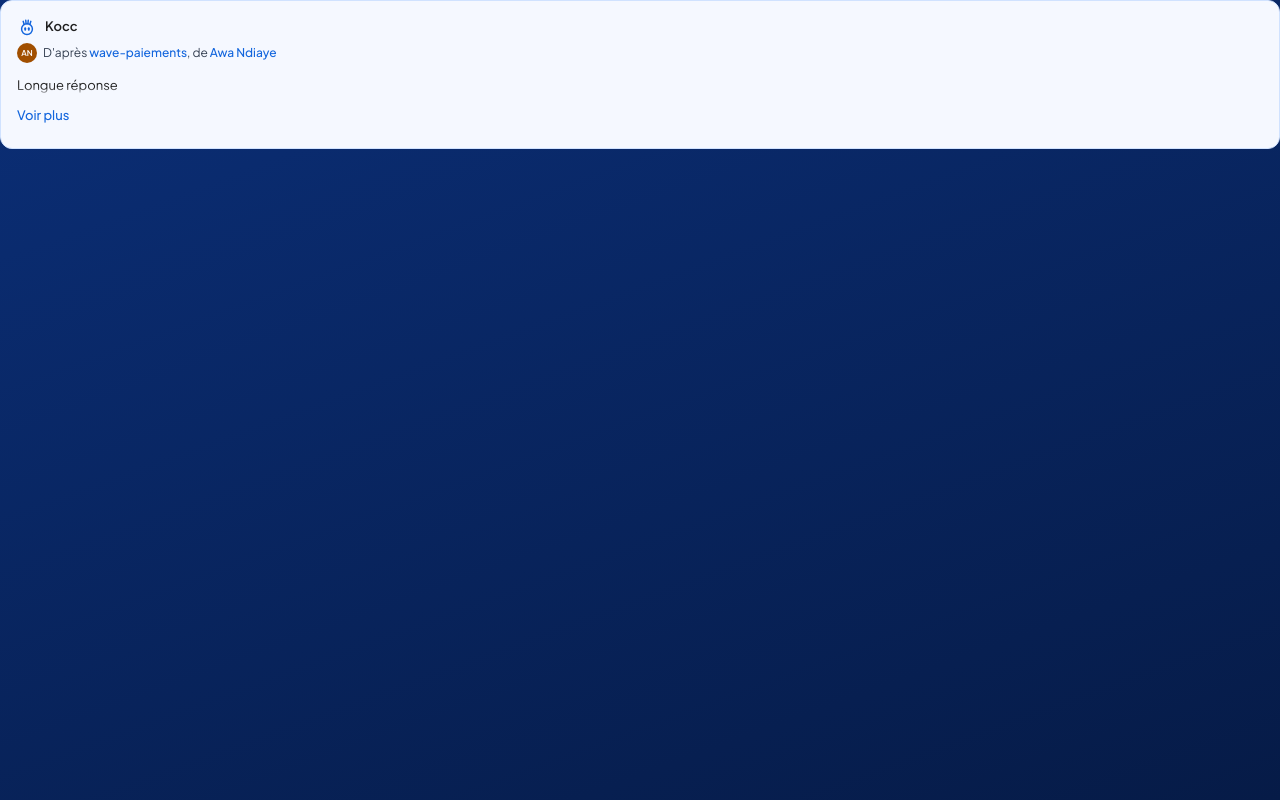
Scenario: AssistantMessage, réponse longue › replie une réponse de plus de huit lignes, la citation restant visible
The width and height of the screenshot is (1280, 800).
Expected: the link "wave-paiements" is shown, [89,45,187,60]
Click the button "Voir plus": point(43, 116) [17,100,69,132]
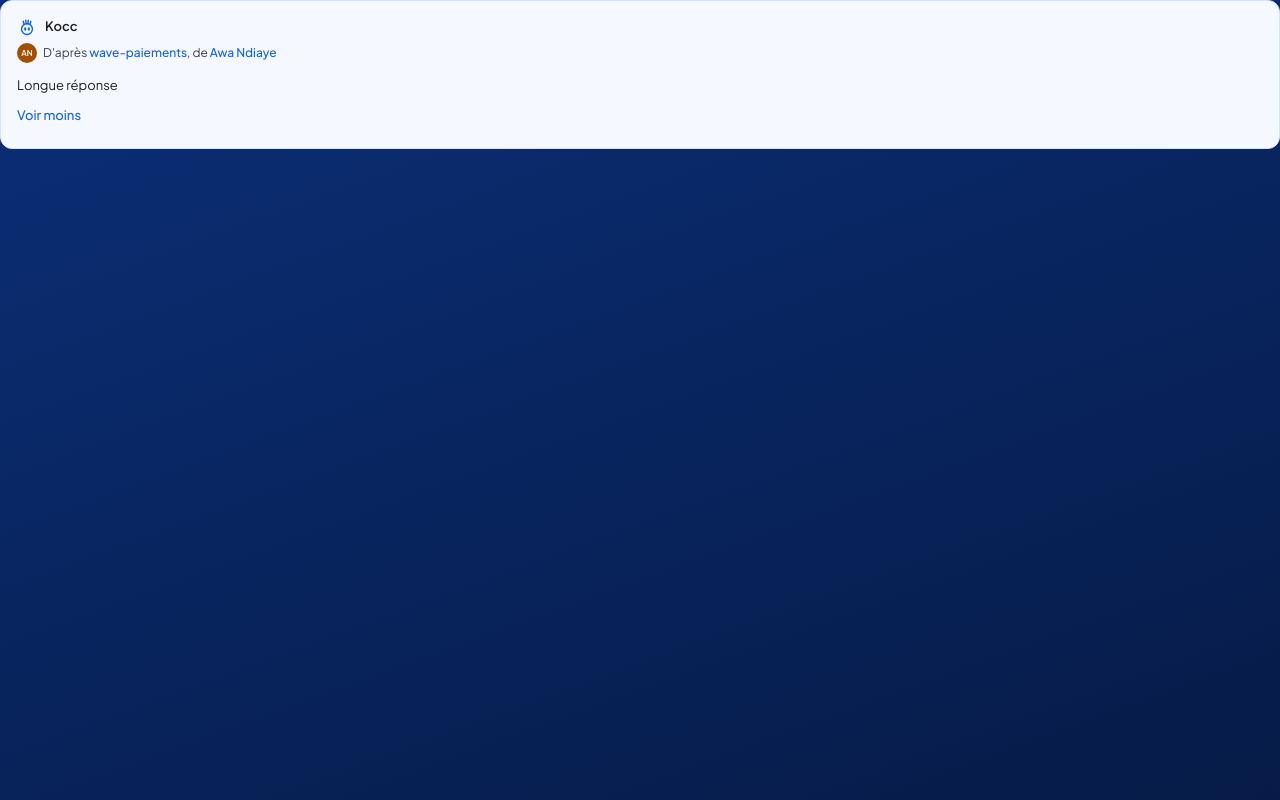
Expected: the button "Voir moins" is expanded, [17,100,81,132]
